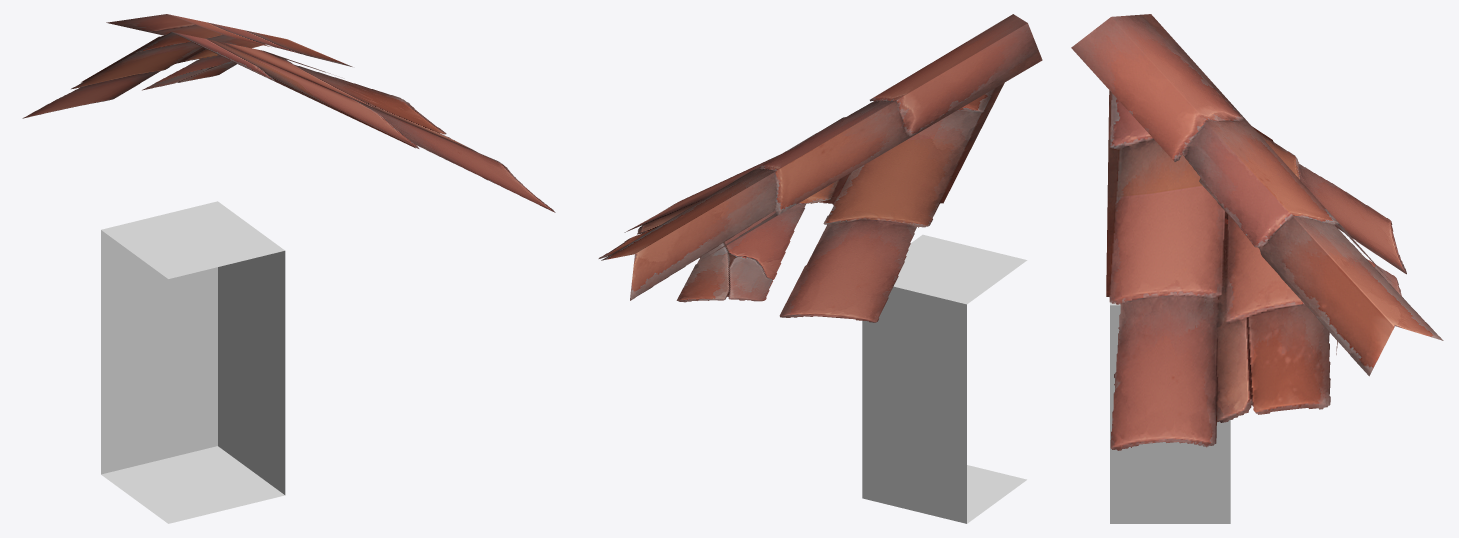
Rendered from WallKit_Hip_End_LOD2.fbx.
The picture shows the model from 3 angles, left to right: view 1: azimuth 30°, elevation 25°; view 2: azimuth 150°, elevation 25°; view 3: azimuth 270°, elevation 25°; orthographic projection. The views are drawn at different scales.
Parts seen in each view (by area): view 1: WallKit_Hip_End_LOD2; view 2: WallKit_Hip_End_LOD2; view 3: WallKit_Hip_End_LOD2.
Boxes of the visible parts, left/top/right/bottom form: WallKit_Hip_End_LOD2: left=22, top=14, right=555, bottom=523; WallKit_Hip_End_LOD2: left=598, top=14, right=1042, bottom=523; WallKit_Hip_End_LOD2: left=1071, top=14, right=1443, bottom=523.
Size of the model in its own units: 77.32 by 86.28 by 64.16.
